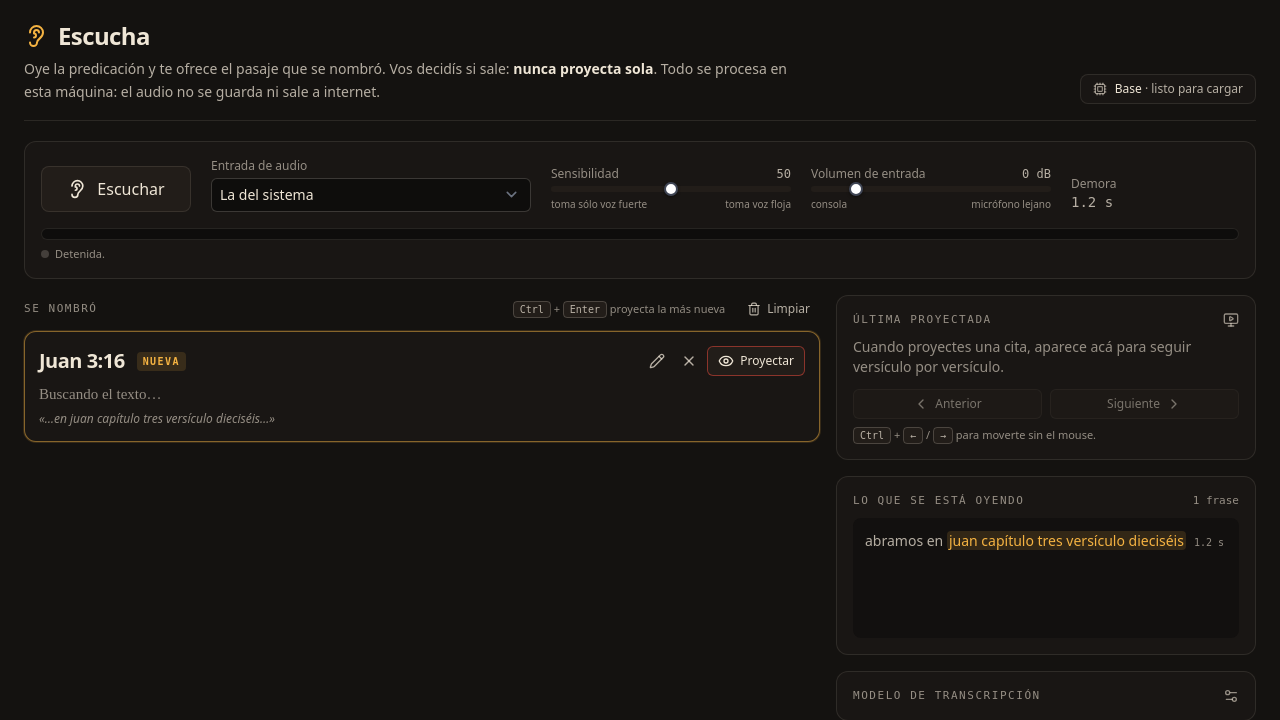
Test: sección Escucha › se puede descartar una sugerencia que no servía
Expected: the text "Juan 3:16" is shown, [39,347,125,375]
Click the button named "Descartar" at (689, 361), box [675,347,703,375]
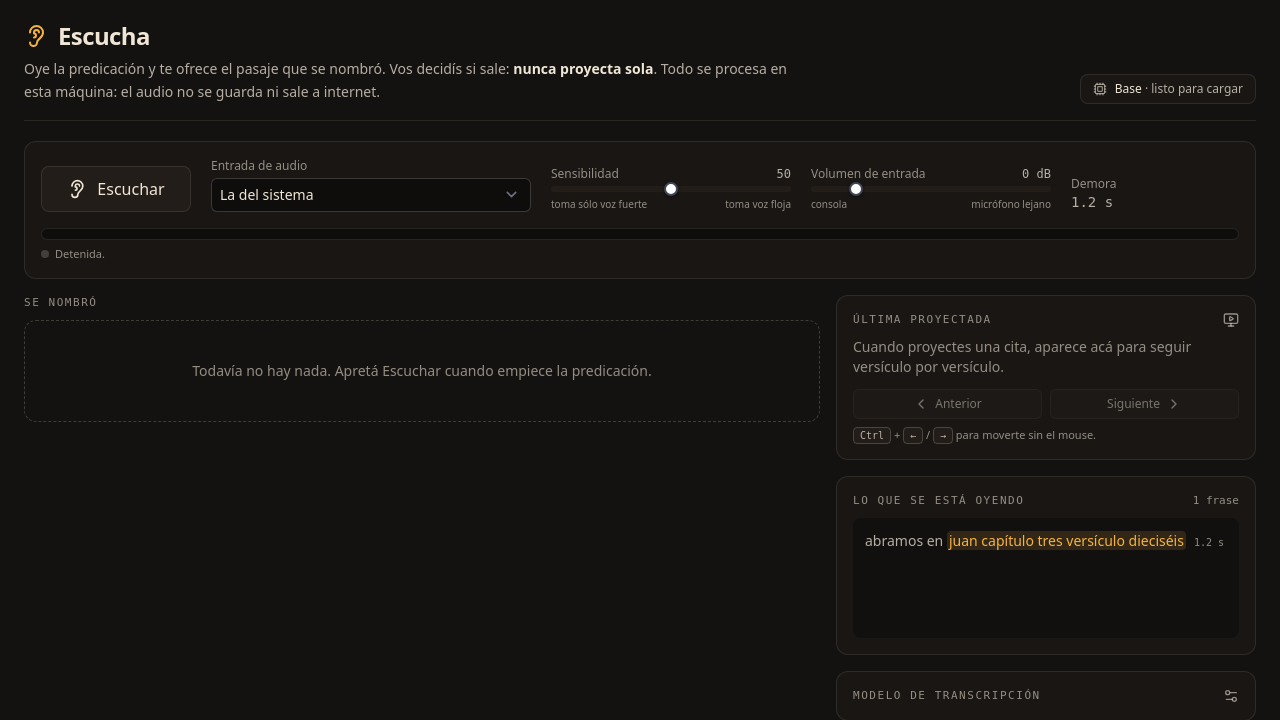
Expected: the text "Juan 3:16" is gone
